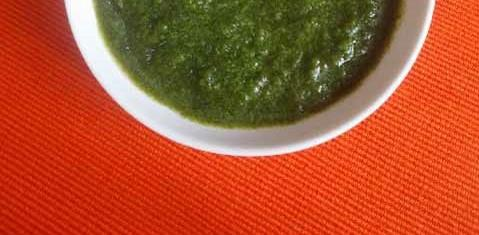GreenChutney: (96, 0, 404, 130)
